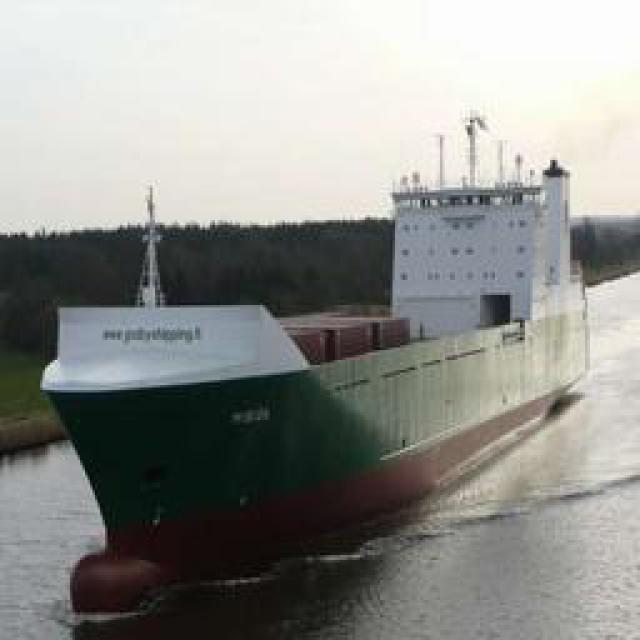Ship: (24, 123, 607, 601)
